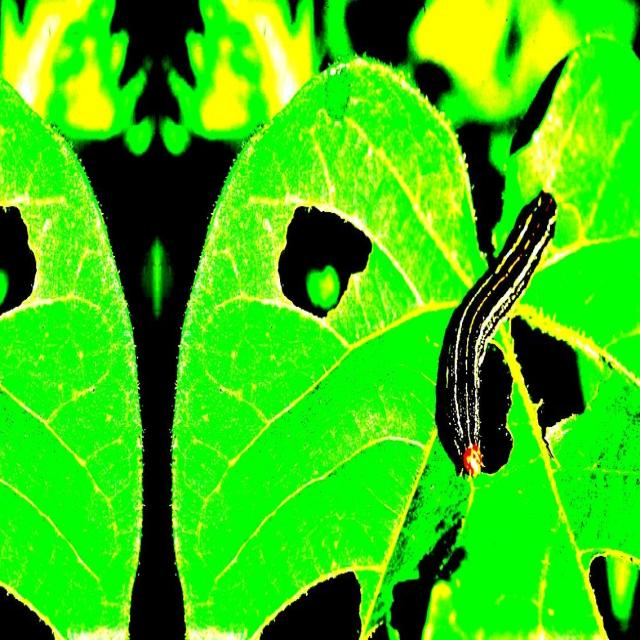Armyworm: (437, 135, 555, 512)
Armyworm_damage: (262, 141, 403, 364), (509, 296, 588, 458), (1, 181, 45, 339)
